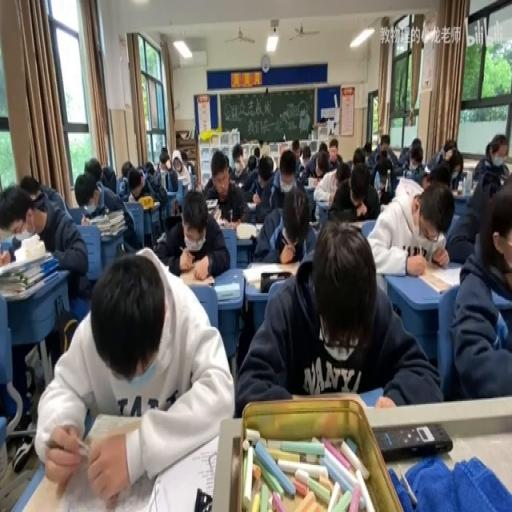calculator: (245, 258, 298, 282), (421, 263, 462, 292), (178, 266, 213, 283), (214, 282, 240, 300), (4, 228, 34, 243), (395, 174, 422, 190), (314, 196, 330, 222), (235, 222, 258, 240), (86, 212, 106, 225), (219, 219, 240, 230), (344, 219, 366, 228), (243, 276, 262, 286), (204, 196, 218, 209), (212, 206, 222, 222), (451, 186, 464, 196), (306, 176, 316, 188), (155, 232, 165, 244), (245, 201, 256, 209), (309, 219, 318, 228), (422, 164, 430, 174)
paper: (36, 246, 234, 501), (235, 219, 438, 417), (448, 174, 512, 400), (0, 176, 88, 308), (367, 178, 453, 276), (154, 186, 230, 279), (78, 169, 140, 259), (250, 180, 314, 262), (328, 162, 381, 222), (130, 162, 169, 238), (470, 132, 509, 189), (299, 142, 332, 184), (236, 145, 262, 192), (202, 148, 227, 196), (366, 132, 396, 168), (400, 135, 424, 176), (19, 173, 45, 202), (424, 162, 451, 189), (99, 165, 116, 193), (376, 175, 391, 205), (162, 164, 178, 192), (84, 156, 101, 182), (326, 138, 340, 168), (258, 158, 274, 182), (120, 159, 134, 179), (442, 141, 455, 162), (116, 176, 128, 198), (352, 146, 365, 165), (290, 139, 300, 161), (160, 152, 170, 172), (259, 141, 270, 159), (484, 145, 494, 164), (232, 148, 242, 166), (185, 160, 194, 176), (144, 162, 154, 175), (180, 150, 188, 164), (302, 154, 310, 165), (318, 142, 327, 151), (253, 145, 259, 157), (365, 151, 371, 162)
person: (373, 422, 452, 461), (193, 488, 211, 509), (173, 199, 178, 215)
